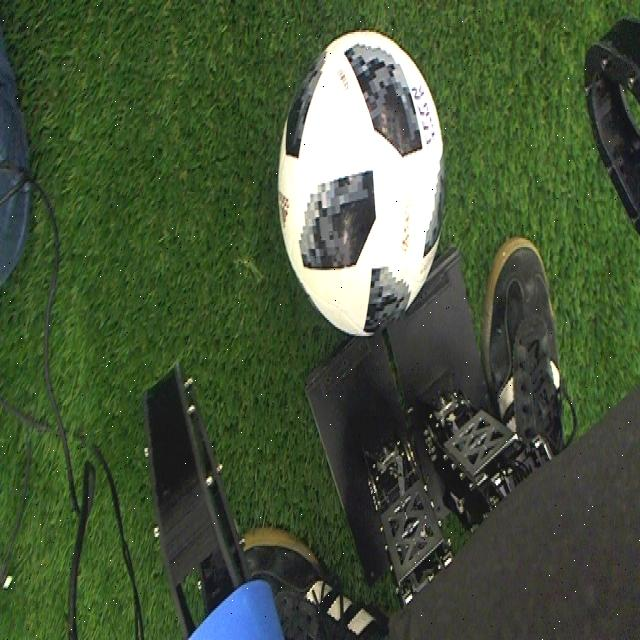ball: (276, 28, 448, 340)
